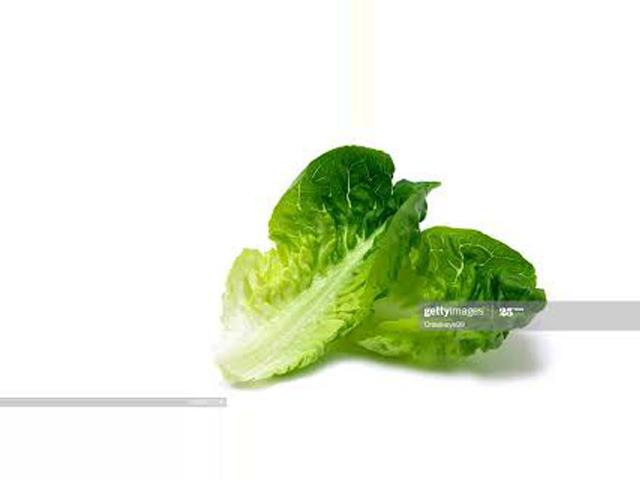lettuce: (206, 143, 554, 372)
